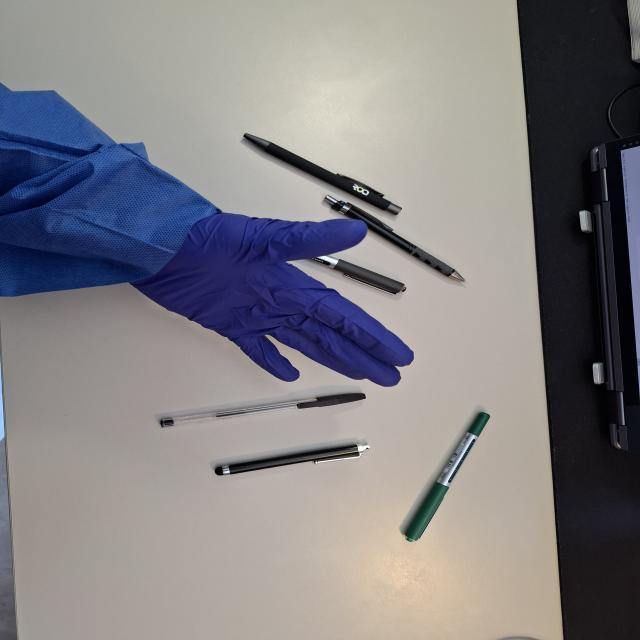glove_on: (120, 210, 417, 388)
